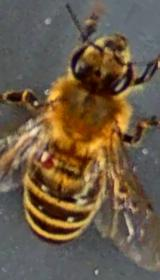varroa_mite: (36, 141, 60, 175)
